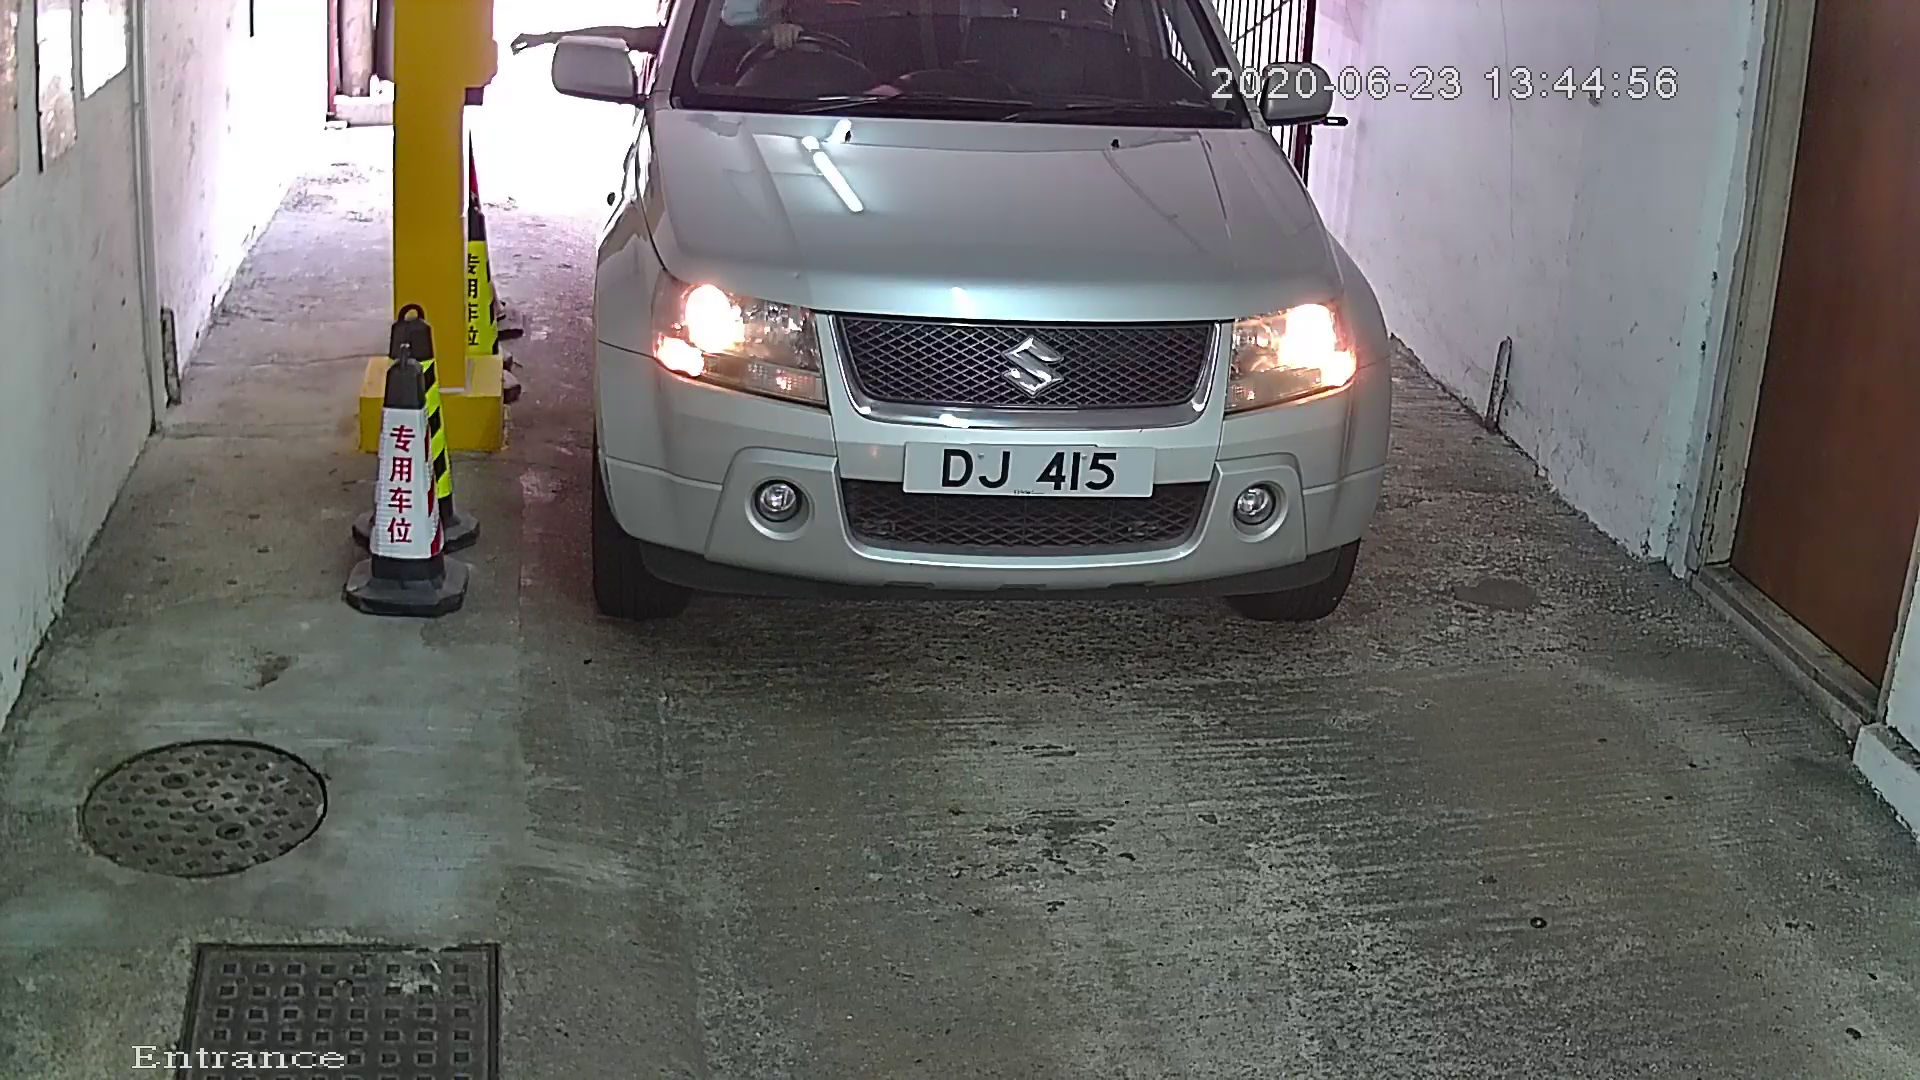privatecar: (509, 1, 1437, 694)
